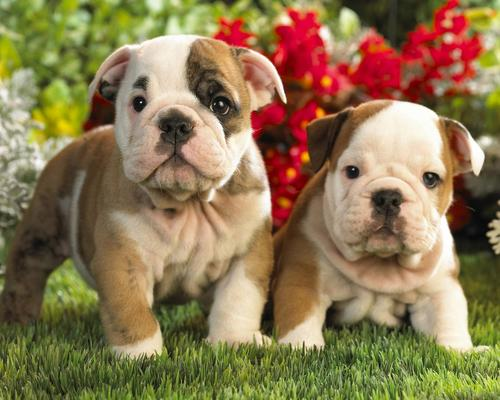dog: (4, 30, 279, 355), (287, 98, 487, 360)
